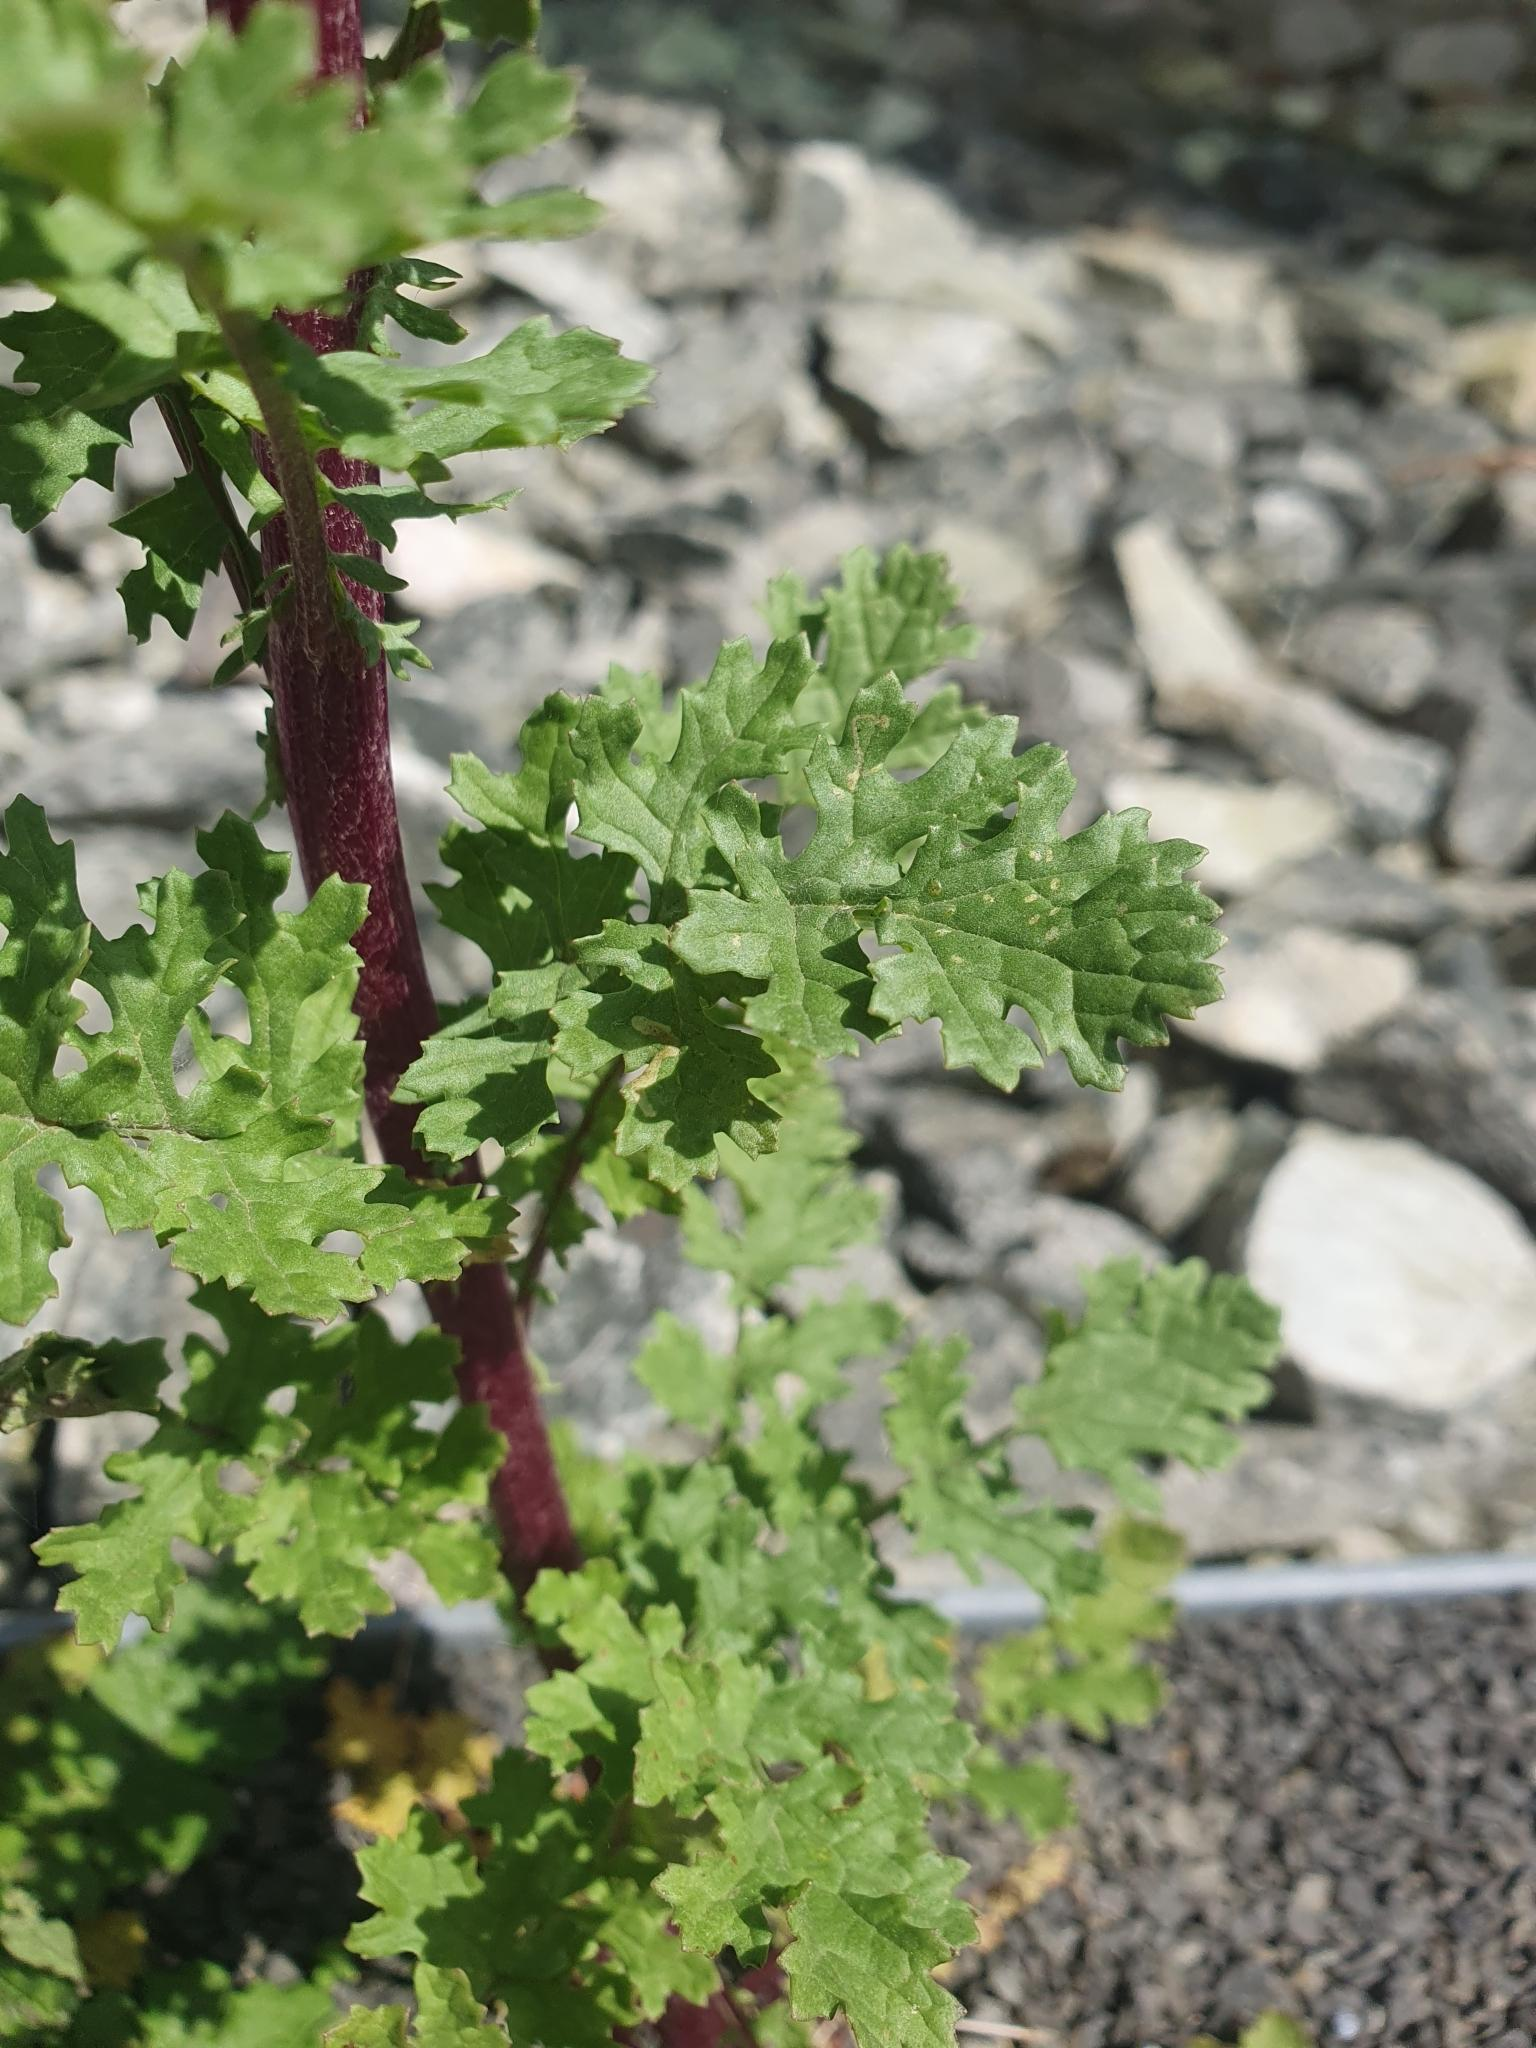Jacobaea vulgaris: (0, 0, 1300, 2048)
